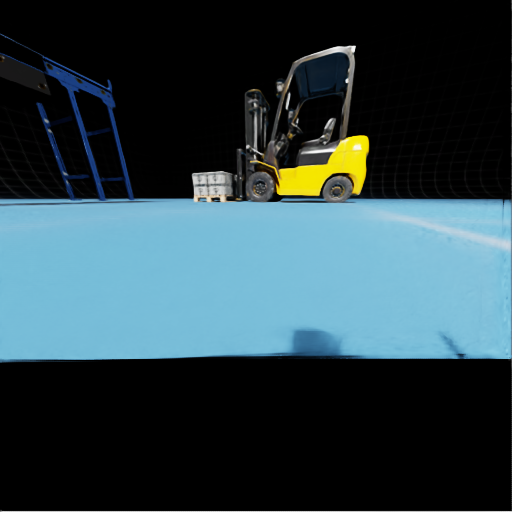transportation_area: (208, 184, 236, 194)
